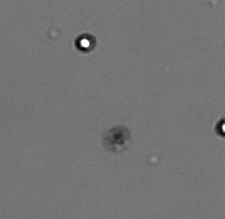Dead Cell: (107, 125, 130, 147)
Living Cell: (73, 31, 97, 53)
